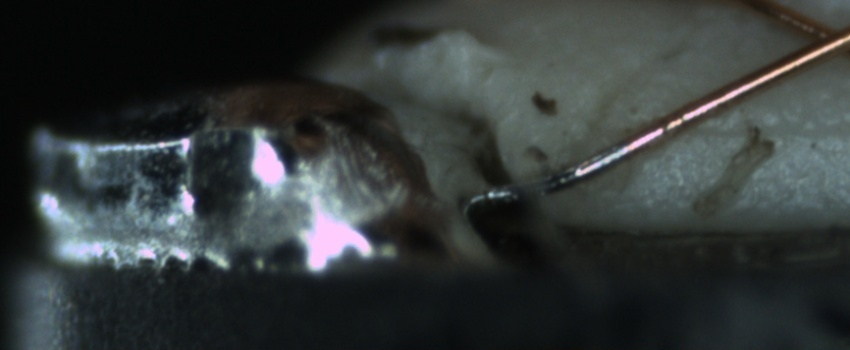CL: (777, 5, 849, 69)
DL: (677, 100, 850, 164)
TS: (466, 142, 633, 210)
